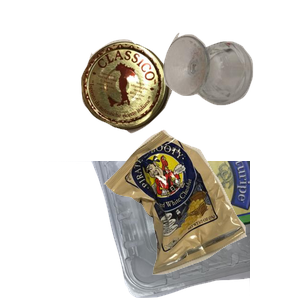glass: (161, 30, 300, 128)
metal: (78, 37, 243, 163)
plastic: (23, 161, 263, 300)
trash: (101, 127, 300, 300)
